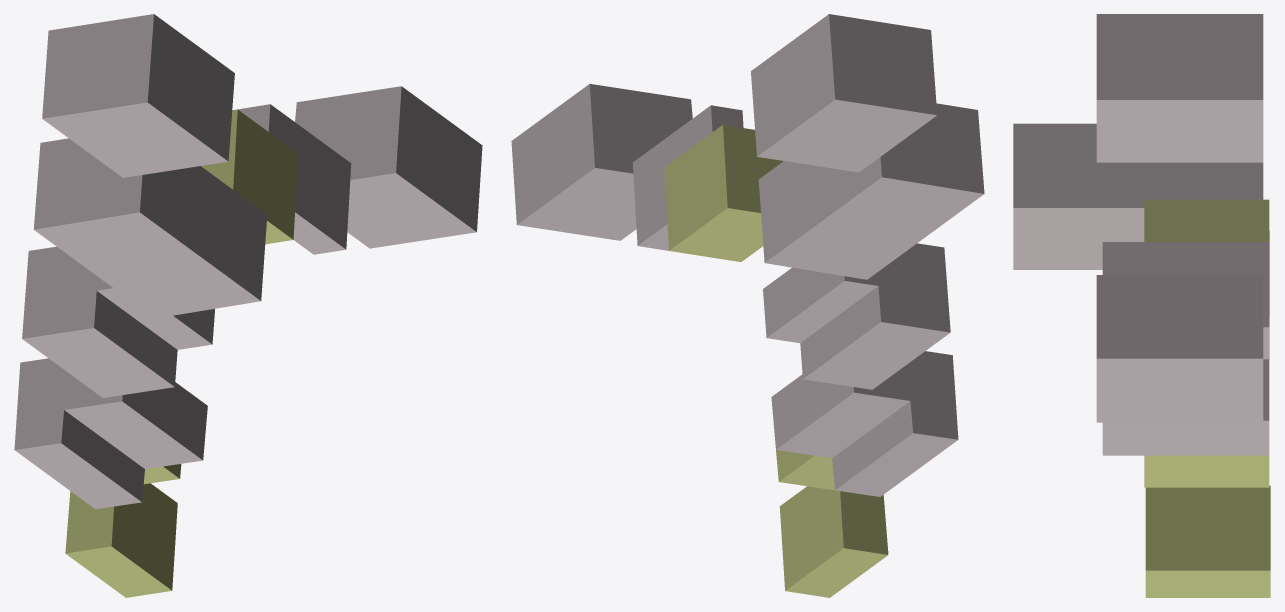
3 renders of one model, left to right at view 1: azimuth 30°, elevation 25°; view 2: azimuth 150°, elevation 25°; view 3: azimuth 270°, elevation 25°, orthographic. The views are drawn at different scales.
Parts seen in each view (by area): view 1: 0_1_3_2_2_1_0_2_0; view 2: 0_1_3_2_2_1_0_2_0; view 3: 0_1_3_2_2_1_0_2_0.
Part boxes in pixels (x1,y1,x2,y2): 0_1_3_2_2_1_0_2_0: (14,14,482,597); 0_1_3_2_2_1_0_2_0: (511,14,984,597); 0_1_3_2_2_1_0_2_0: (1013,14,1270,597).
Size of the model in its own units: 32.9 by 43.75 by 18.52.
